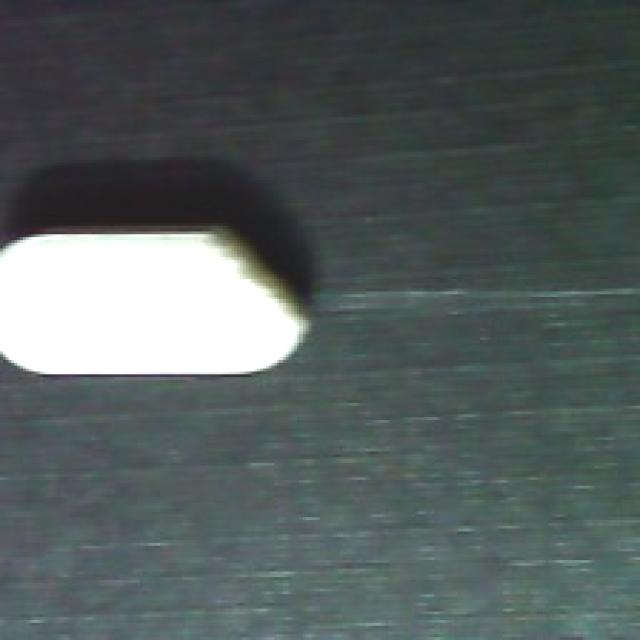defected: (0, 220, 314, 389)
